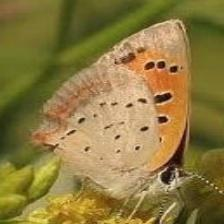butterfly: (31, 20, 192, 199)
